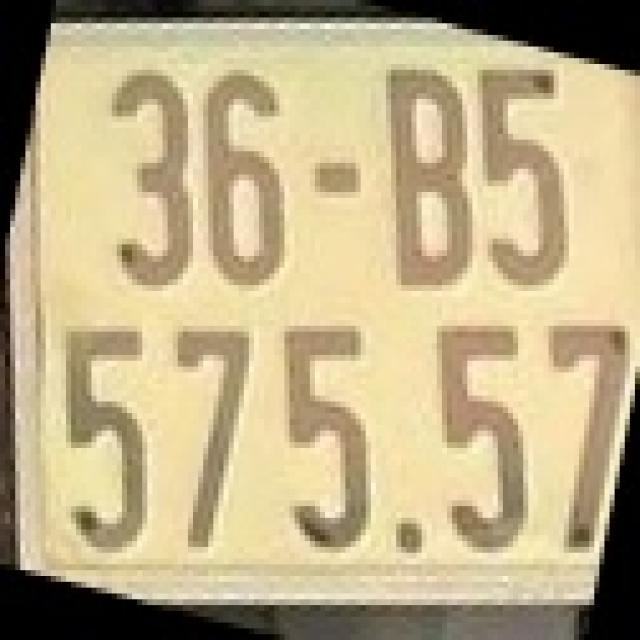3: (102, 64, 198, 285)
5: (426, 314, 538, 553), (51, 314, 158, 553), (274, 314, 381, 553), (472, 58, 574, 285)
6: (198, 64, 290, 285)
7: (543, 314, 635, 547), (168, 314, 254, 553)
B: (376, 58, 478, 291)
